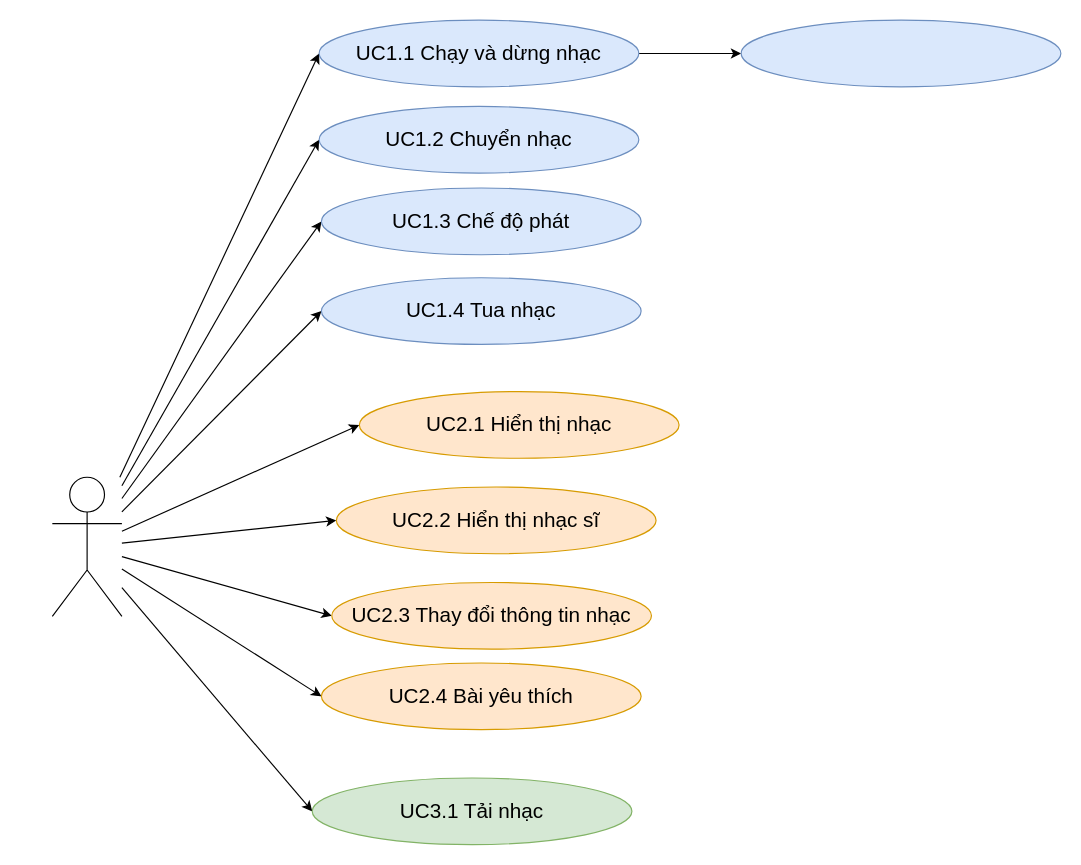
This 1081x865 diagram has some shape labels left out. The shapes that lost their labels are listed below. From the top down, each one's box as (x1, y1, x2, y2) in pixels, then its label:
(740, 19, 1061, 87): Chạy nhạc ở nền
(51, 476, 122, 616): Người dùng
